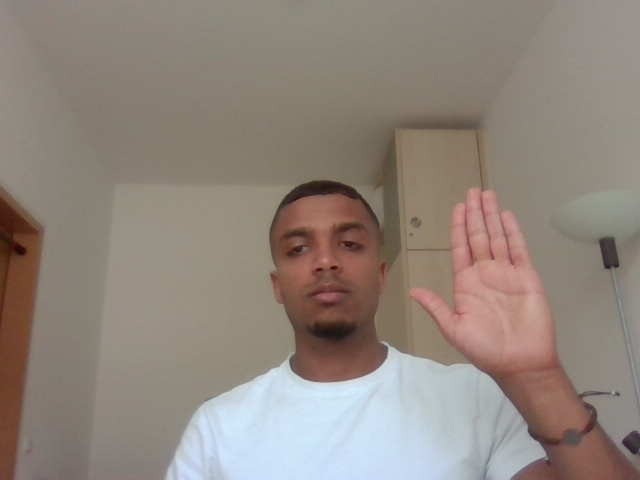never: (403, 179, 575, 386)
